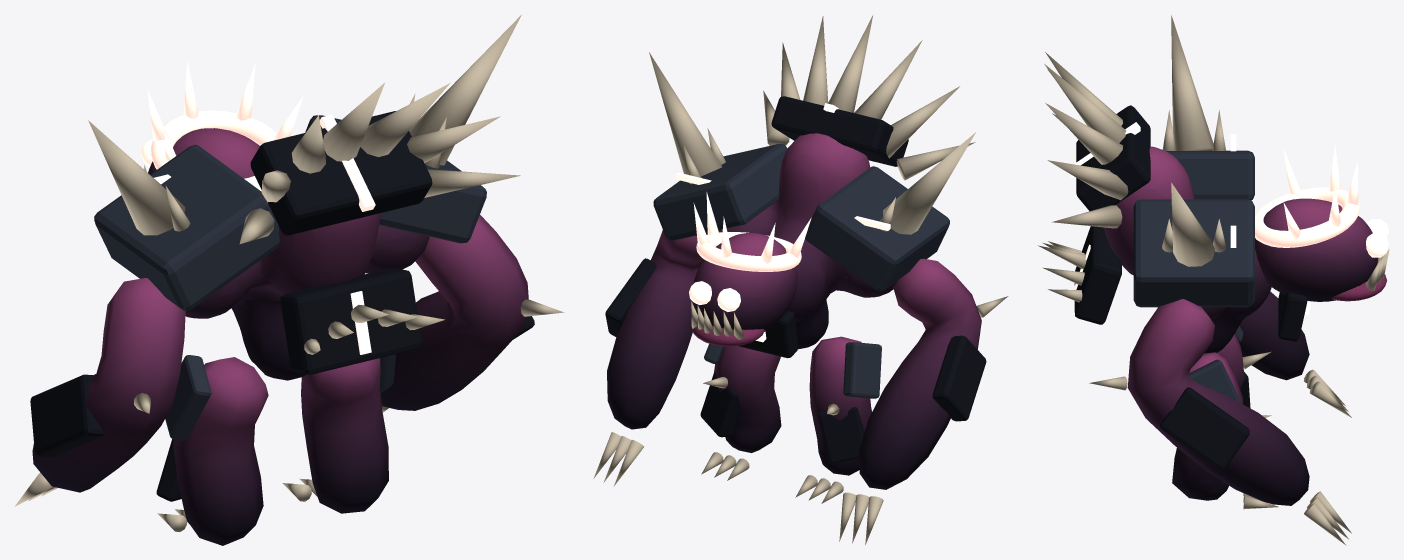
The model's file is Brute.fbx.
3 views of the same model, side by side, from view 1: azimuth 30°, elevation 25°; view 2: azimuth 150°, elevation 25°; view 3: azimuth 270°, elevation 25° (orthographic). The views are drawn at different scales.
Parts seen in each view (by area): view 1: Torso, Arm_L, Arm_R, Leg_L, Leg_R, Crown_Glow, Head, Core_Glow; view 2: Torso, Arm_L, Arm_R, Leg_L, Leg_R, Head, Crown_Glow, Jaw, Eyes_Glow, Core_Glow; view 3: Torso, Arm_R, Head, Crown_Glow, Arm_L, Leg_R, Leg_L, Jaw, Eyes_Glow, Core_Glow.
Boxes of the visible parts, <box> form: Torso: <box>88,14,521,380</box>; Arm_L: <box>14,278,185,506</box>; Arm_R: <box>380,215,564,412</box>; Leg_L: <box>156,355,268,545</box>; Leg_R: <box>282,354,395,513</box>; Crown_Glow: <box>147,60,303,191</box>; Head: <box>148,128,259,178</box>; Core_Glow: <box>154,114,375,354</box>; Torso: <box>649,15,975,358</box>; Arm_L: <box>839,258,1008,544</box>; Arm_R: <box>593,230,703,485</box>; Leg_L: <box>795,336,881,503</box>; Leg_R: <box>700,343,781,480</box>; Head: <box>693,233,797,331</box>; Crown_Glow: <box>693,192,811,271</box>; Jaw: <box>691,301,764,346</box>; Eyes_Glow: <box>689,281,740,311</box>; Core_Glow: <box>675,103,890,342</box>; Torso: <box>1038,15,1307,353</box>; Arm_R: <box>1089,299,1351,545</box>; Head: <box>1255,198,1378,301</box>; Crown_Glow: <box>1255,145,1359,247</box>; Arm_L: <box>1239,291,1351,417</box>; Leg_R: <box>1172,352,1278,509</box>; Leg_L: <box>1217,326,1271,408</box>; Jaw: <box>1331,247,1389,301</box>; Eyes_Glow: <box>1366,219,1389,257</box>; Core_Glow: <box>1068,122,1310,315</box>.
Size of the model in its own units: 13.4 by 14.08 by 10.84.
